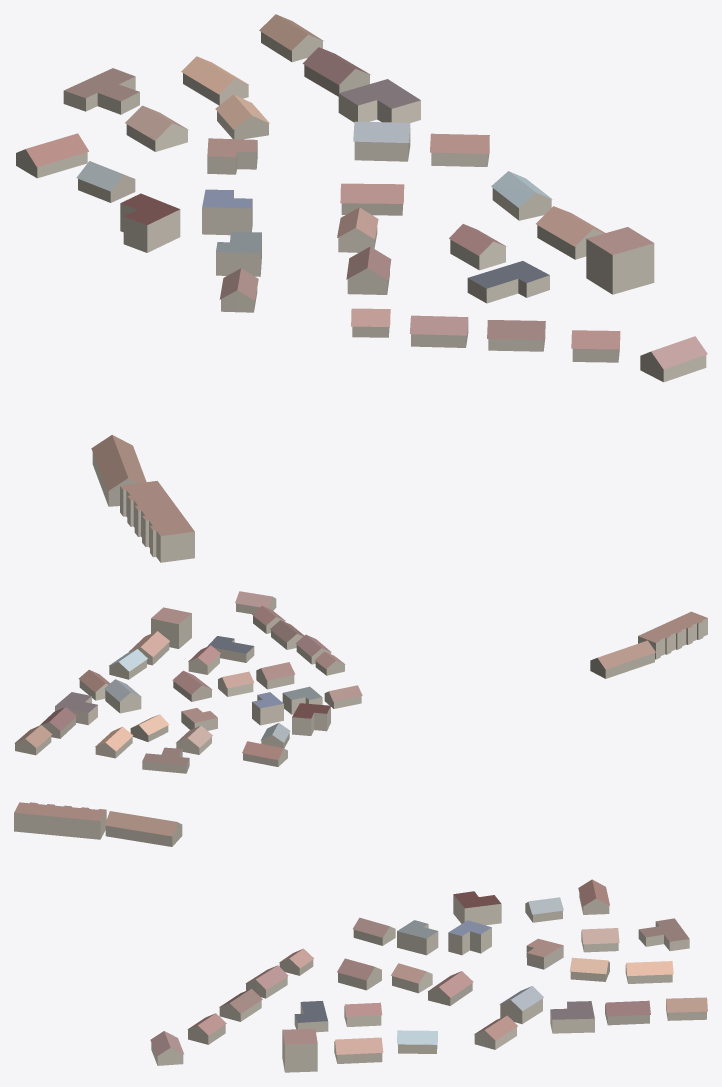
3 renders of one model, top to bottom at view 1: azimuth 30°, elevation 25°; view 2: azimuth 150°, elevation 25°; view 3: azimuth 270°, elevation 25°, orthographic. The views are drawn at different scales.
Parts seen in each view (by area): view 1: tuile; view 2: tuile; view 3: tuile.
Part boxes in pixels (bbox=[...]): tuile: bbox=[16, 14, 707, 562]; tuile: bbox=[14, 591, 707, 773]; tuile: bbox=[14, 802, 707, 1072].
Size of the model in its own units: 213 by 24.89 by 266.
